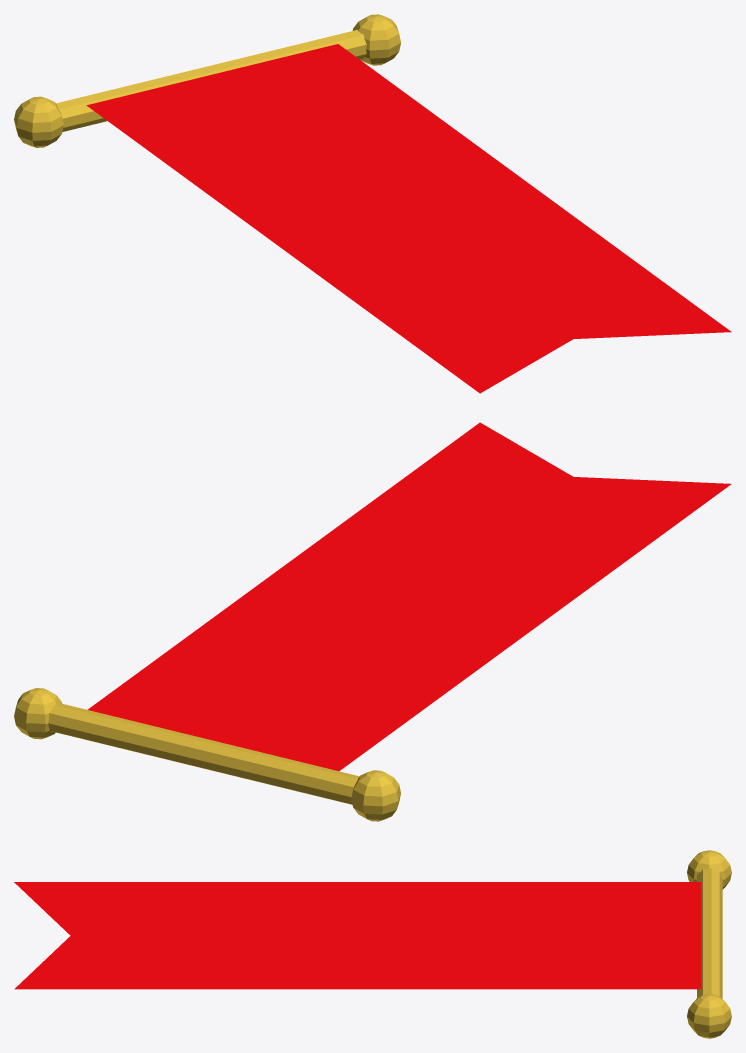
The model's file is drapeau_romain.fbx.
3 renders of one model, top to bottom at view 1: azimuth 30°, elevation 25°; view 2: azimuth 150°, elevation 25°; view 3: azimuth 270°, elevation 25°, orthographic. The views are drawn at different scales.
Parts seen in each view (by area): view 1: Sphere.001; view 2: Sphere.001; view 3: Sphere.001.
Part boxes in pixels (left/top/right/bottom): Sphere.001: left=14, top=14, right=731, bottom=393; Sphere.001: left=14, top=422, right=731, bottom=821; Sphere.001: left=14, top=850, right=731, bottom=1038.
Bounding box in the file's own units: 606 × 71.02 × 1131.
